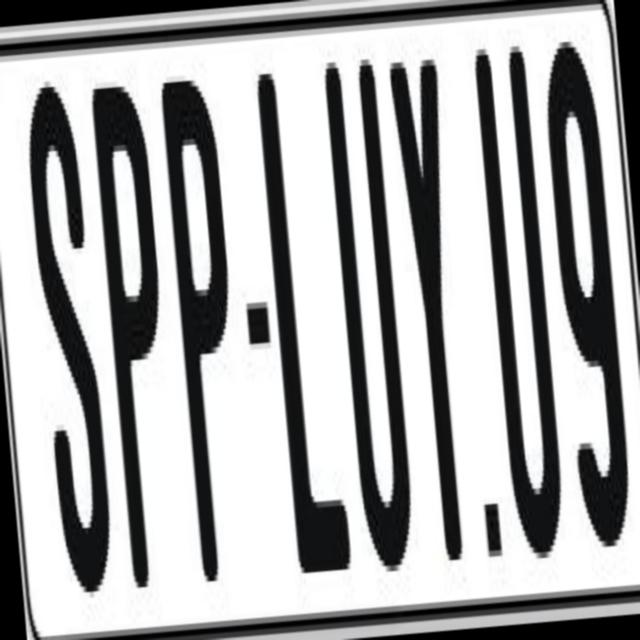9: (535, 33, 639, 577)
L: (254, 64, 356, 568)
P: (87, 84, 187, 617), (156, 72, 255, 594)
S: (18, 79, 119, 588)
U: (321, 63, 420, 584), (471, 46, 566, 572)
Y: (383, 40, 481, 568)
